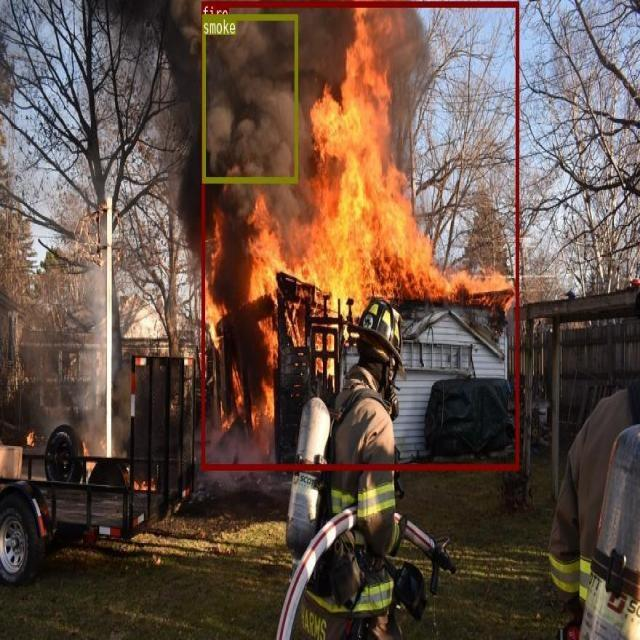fire: (201, 0, 518, 468)
smoke: (202, 14, 297, 181)
